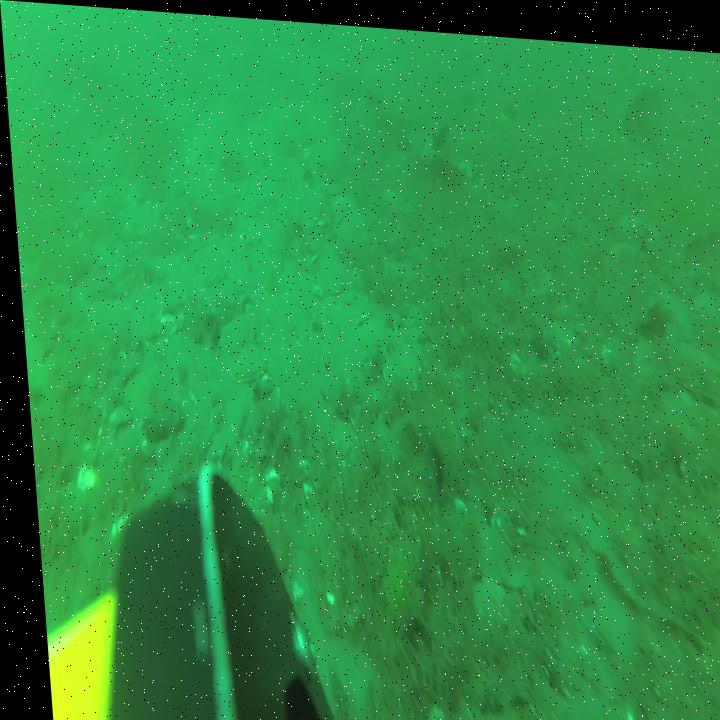scallop: (210, 306, 253, 358), (469, 516, 505, 576), (463, 568, 501, 624), (220, 339, 265, 382), (378, 343, 416, 391), (519, 258, 551, 297), (310, 252, 341, 292), (351, 308, 380, 342), (616, 199, 644, 232), (607, 231, 637, 261)
